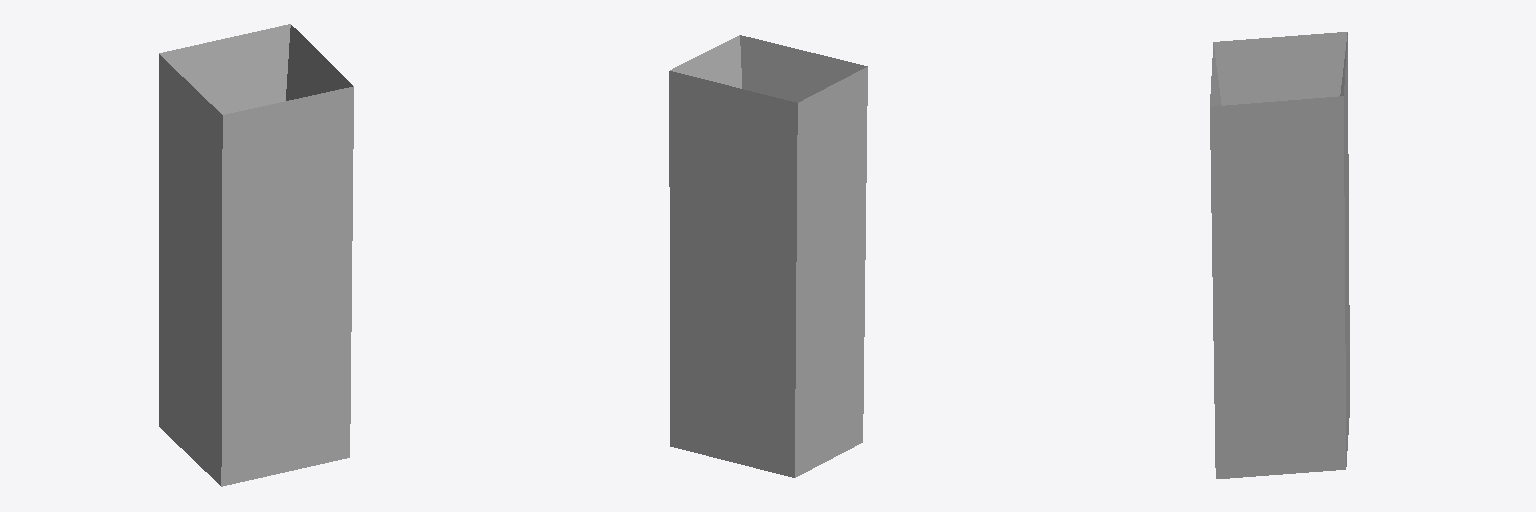
File: objectBox.obj
3 renders of one model, left to right at view 1: azimuth 30°, elevation 25°; view 2: azimuth 150°, elevation 25°; view 3: azimuth 270°, elevation 25°, orthographic.
Visible parts, largest first — view 1: Mesh; view 2: Mesh; view 3: Mesh.
Boxes of the visible parts, x1=… form: Mesh: x1=159, y1=24, x2=353, y2=486; Mesh: x1=669, y1=35, x2=867, y2=477; Mesh: x1=1210, y1=32, x2=1349, y2=478.
Bounding box in the file's own units: 1.38 × 3.81 × 1.25.